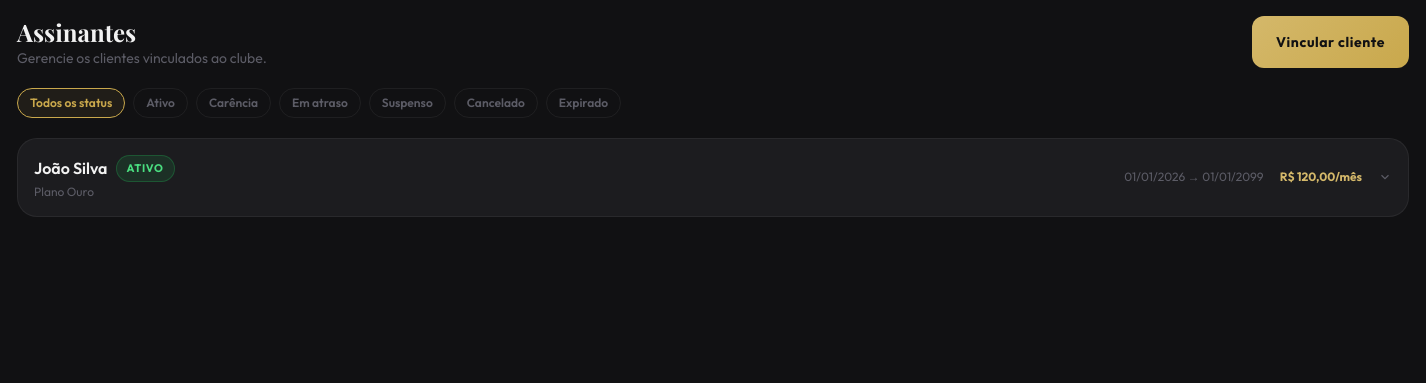
it: Fase 4 — UI do Plano Clube › 7. consulta saldo da assinatura ao expandir linha
Expected: the text "João Silva" is shown, [34,158,108,178]
Click the text "João Silva" at (71, 168), box [34,155,1392,198]
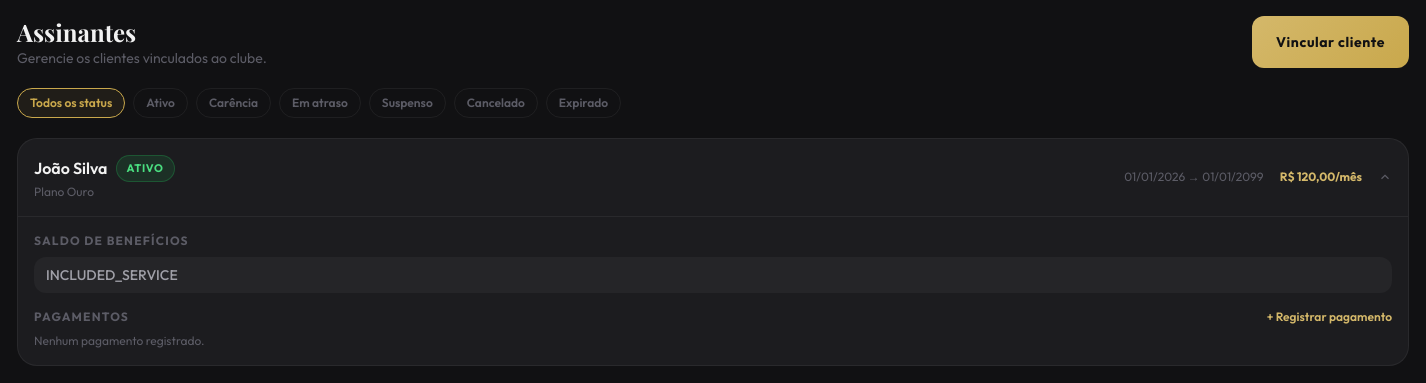
Now the text "Saldo de benefícios" is shown, box [34,232,189,248]
